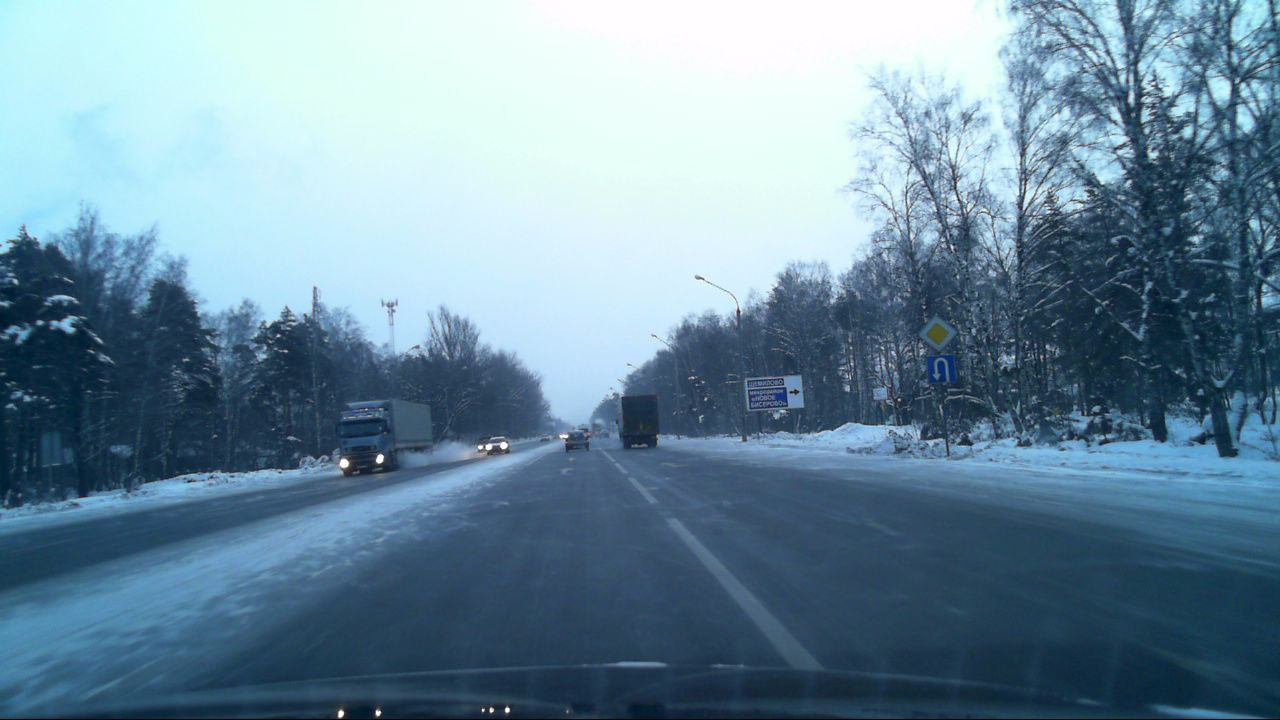U-turn: (927, 355, 956, 384)
